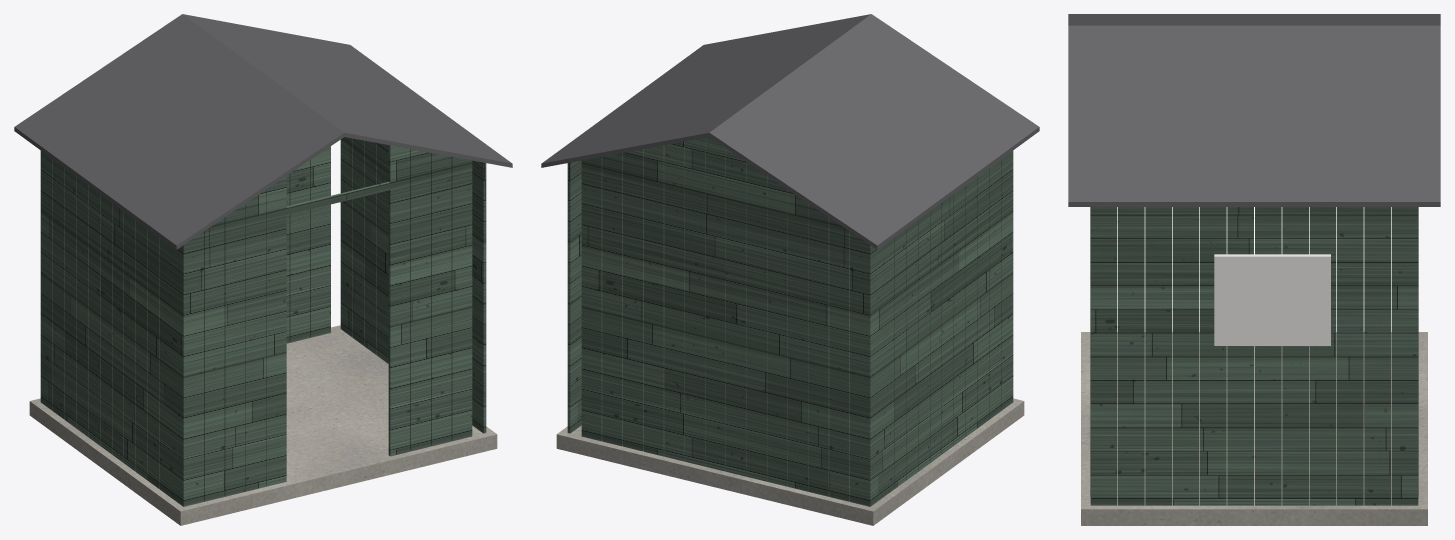
File: shed.glb
The picture shows the model from 3 angles, left to right: view 1: azimuth 30°, elevation 25°; view 2: azimuth 150°, elevation 25°; view 3: azimuth 270°, elevation 25°; orthographic projection. The views are drawn at different scales.
Parts seen in each view (by area): view 1: shed_shed, shed_dark, shed_conc_s; view 2: shed_shed, shed_dark, shed_conc_s; view 3: shed_shed, shed_dark, shed_conc_s, shed_trim.
Part boxes in pixels (box(x1,y1,x2,y2)): shed_shed: box(40, 137, 486, 506); shed_dark: box(14, 14, 512, 249); shed_conc_s: box(29, 325, 497, 525); shed_shed: box(567, 137, 1013, 506); shed_dark: box(541, 14, 1039, 249); shed_conc_s: box(556, 398, 1024, 525); shed_shed: box(1090, 207, 1418, 505); shed_dark: box(1068, 14, 1440, 206); shed_conc_s: box(1081, 332, 1427, 525); shed_trim: box(1214, 254, 1330, 345).
Bounding box in the file's own units: 2.44 × 2.49 × 2.04.
Materials: 5 (2 with a texture image).
